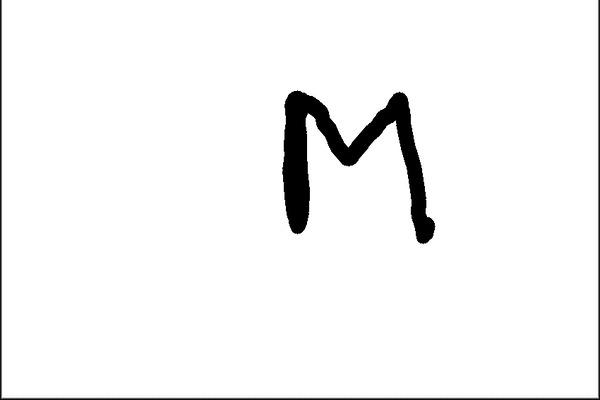M: (274, 83, 437, 242)
